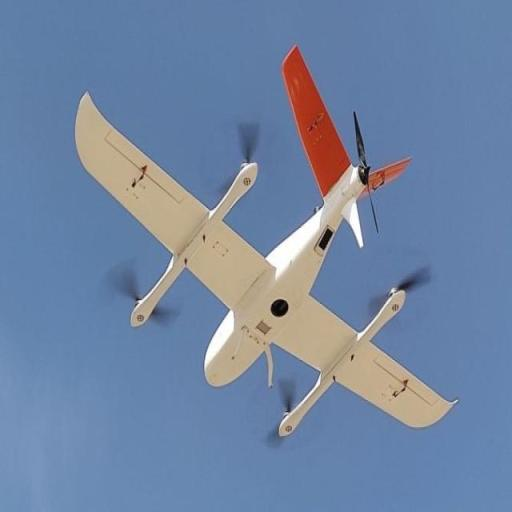uav: (73, 43, 457, 465)
